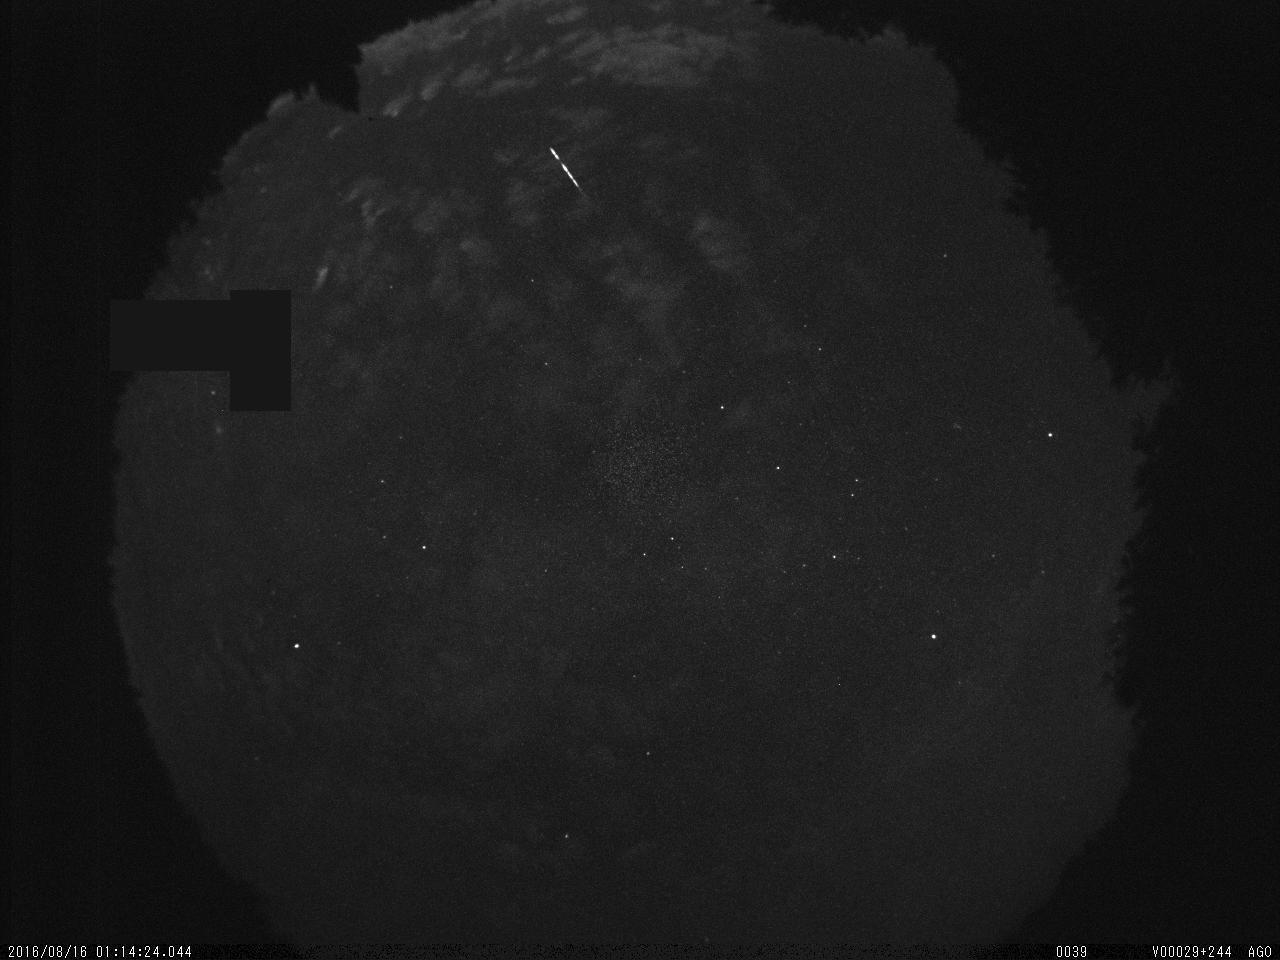meteor: (535, 136, 596, 210)
